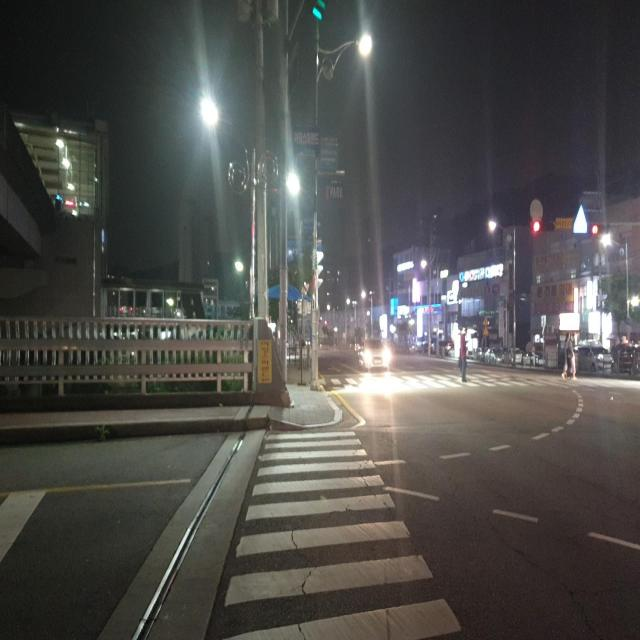횡단보도: (221, 427, 465, 640), (322, 351, 633, 387)
